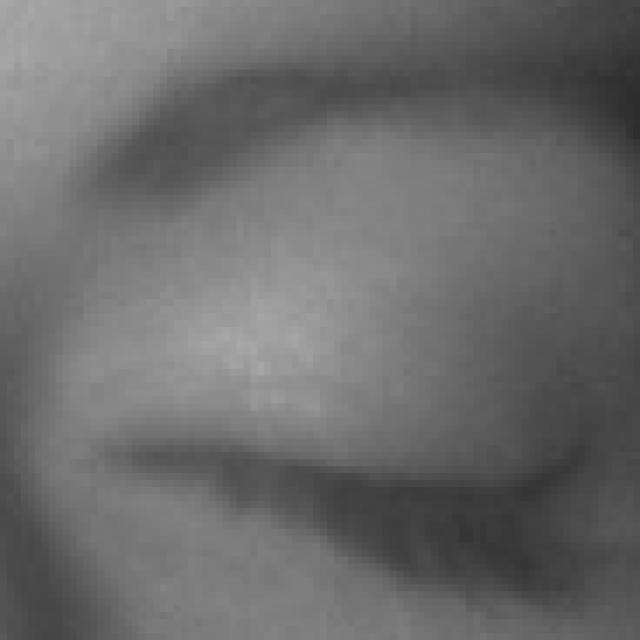Eyeclosed: (97, 201, 591, 640)
